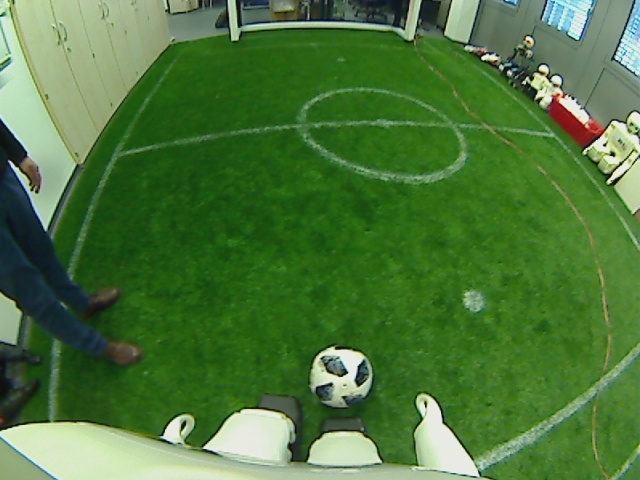ball: (307, 343, 373, 408)
